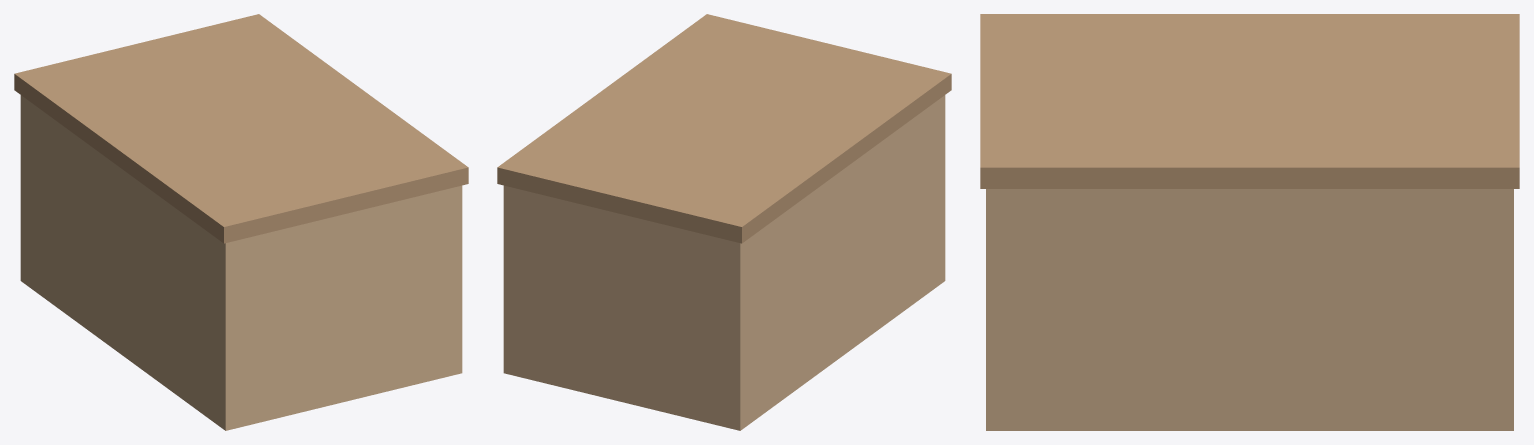
File: box_pliometrique.glb
3 renders of one model, left to right at view 1: azimuth 30°, elevation 25°; view 2: azimuth 150°, elevation 25°; view 3: azimuth 270°, elevation 25°, orthographic. The views are drawn at different scales.
Size of the model in its own units: 0.62 by 0.5 by 0.92.
